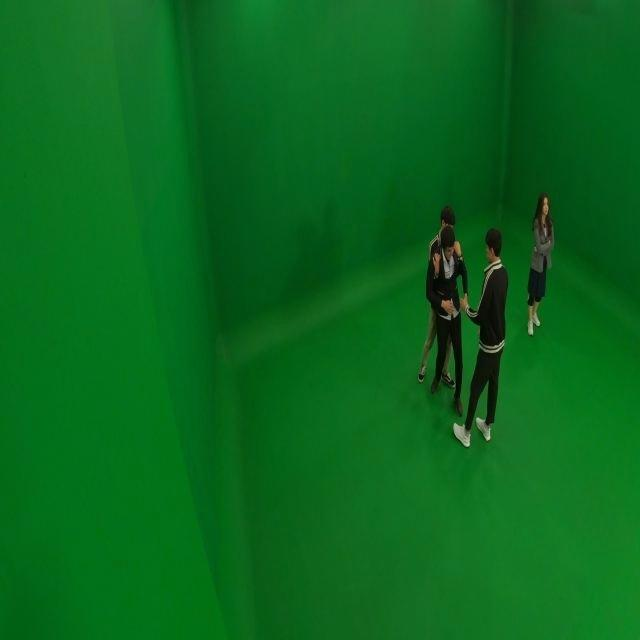fight: (418, 198, 510, 448)
non-fight: (523, 192, 555, 334)
